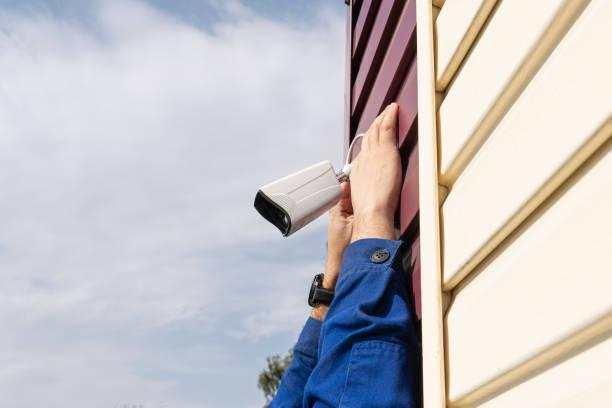camera: (222, 147, 370, 249)
